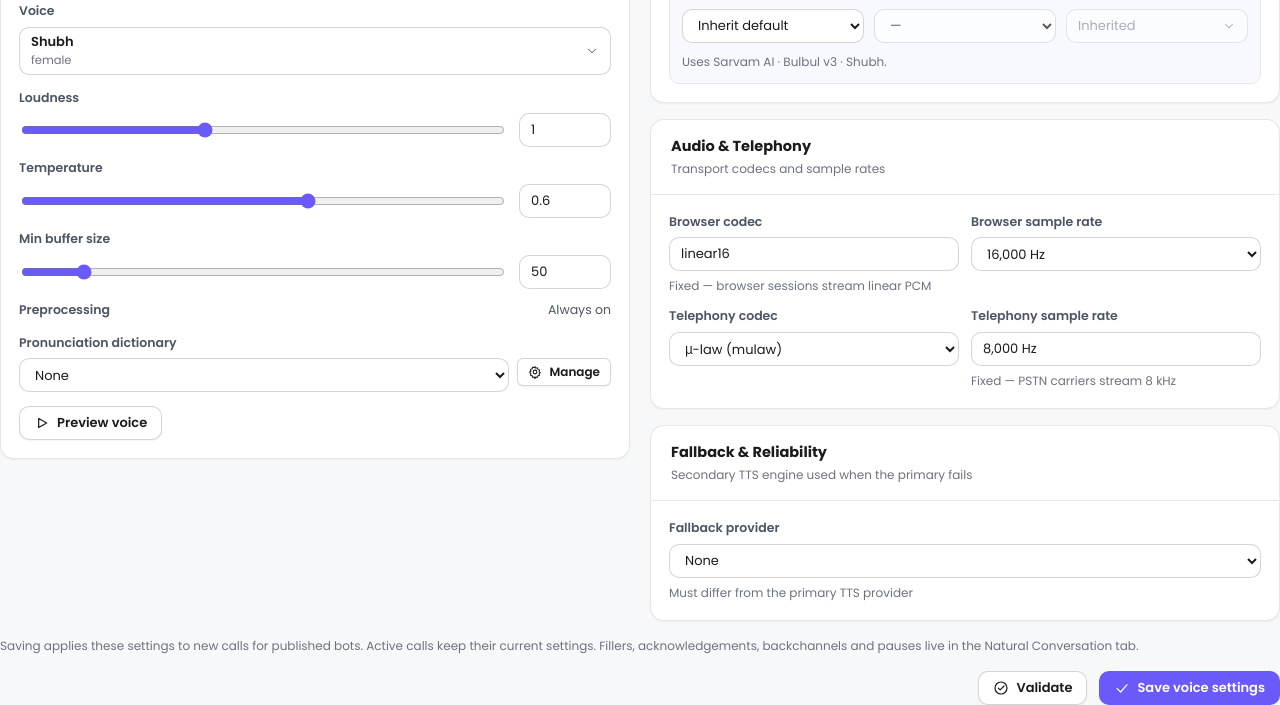
Test: Voice preview — provider/model-specific settings › renders a Voice settings section with the selected model's controls only
The width and height of the screenshot is (1280, 705).
(page scrolled)
Click the button "Preview voice". click: (91, 423)
box: [19,406,162,440]
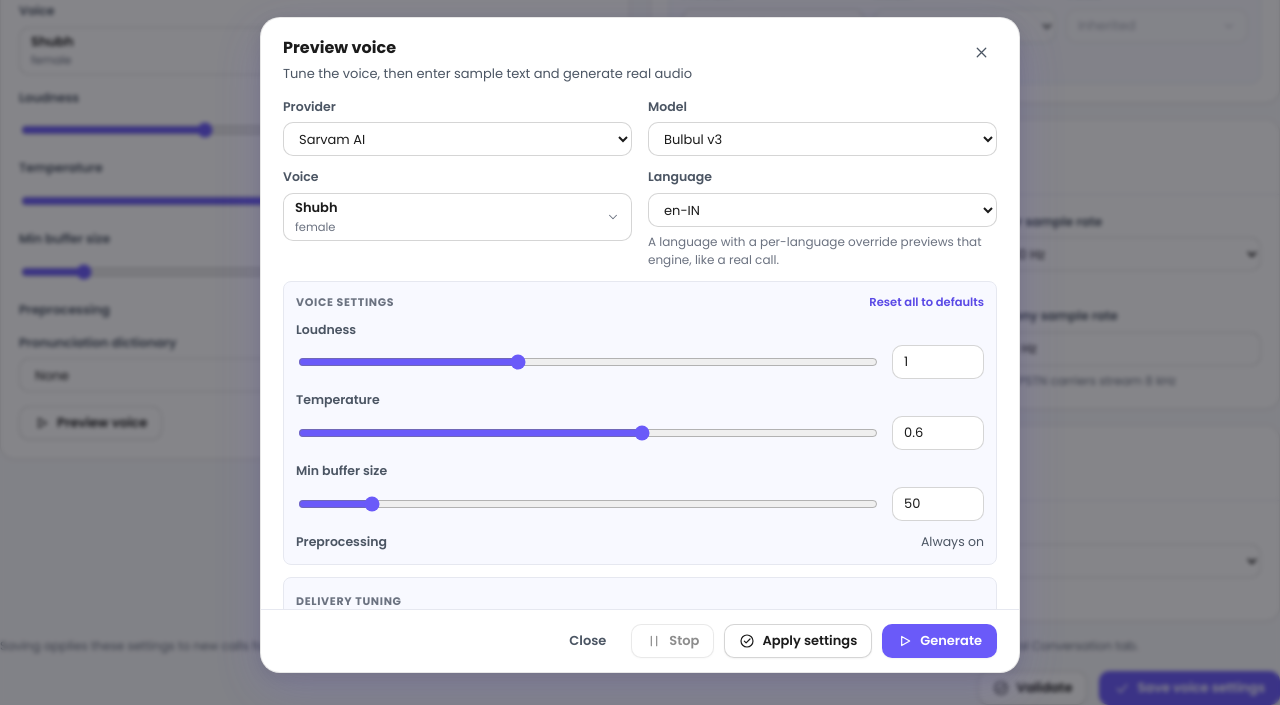
Now the text "Voice settings" is shown, box [296,294,394,310]
Now the number field named "Temperature value" holds "0.6", box [892,416,984,450]
